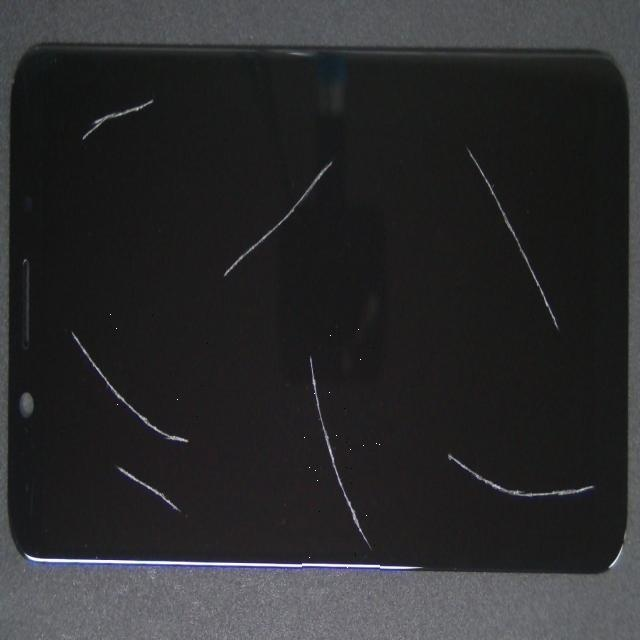scratch: (151, 127, 454, 528), (36, 123, 96, 486)
